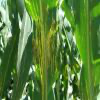Corn leaf blight: (25, 0, 63, 99), (72, 0, 99, 99), (13, 3, 32, 98), (1, 22, 20, 99)
